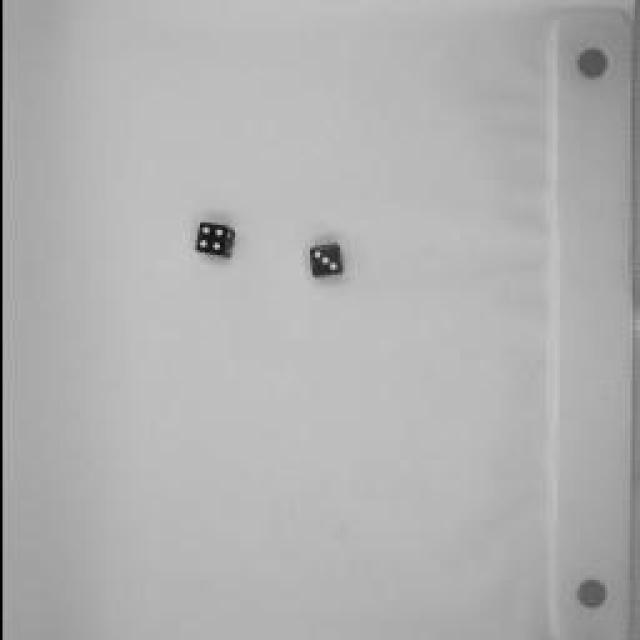dice_3: (302, 236, 350, 282)
dice_4: (185, 212, 240, 262)
